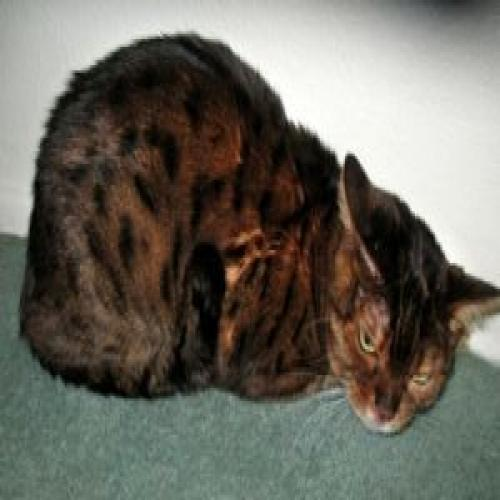cat-face: (327, 149, 500, 448)
